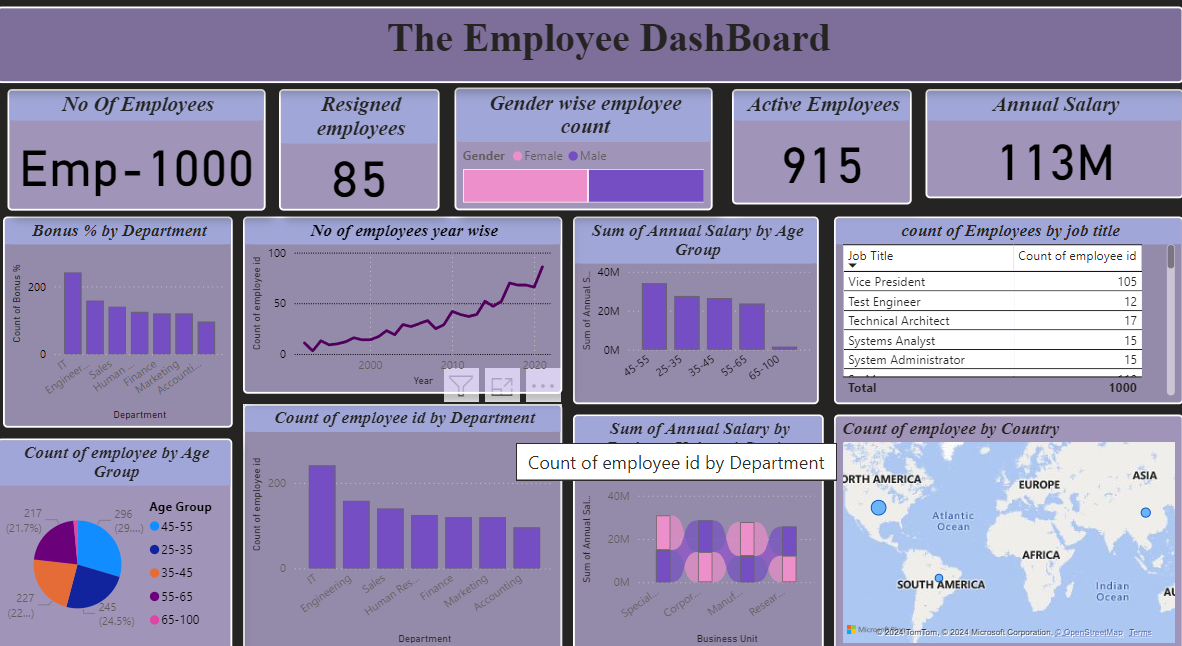

The page's visual inventory and layout, read from the dashboard file:
{"tool":"powerbi","page":{"name":"Page 2","canvas":[1280,720],"ordinal":0},"visuals":[{"type":"tableEx","title":"count of Employees by job title","fields":{"Values":["Sheet1.Job Title","CountNonNull(Sheet1.employee id)"]},"box":[903.5,241.3,377.3,202.4],"z":0},{"type":"clusteredColumnChart","title":" Bonus % by Department","fields":{"Category":["Sheet1.Department"],"Y":["CountNonNull(Sheet1.Bonus %)"]},"box":[6.5,241.3,247.7,228.3],"z":1000},{"type":"map","title":"Count of employee  by Country","fields":{"Category":["Sheet1.Country"],"Size":["CountNonNull(Sheet1.employee id)"]},"box":[903.5,455,377.3,255.8],"z":2000},{"type":"columnChart","fields":{"Category":["Sheet1.Age Group"],"Y":["Sum(Sheet1.Annual Salary)"]},"box":[621.8,241.3,265.6,202.4],"z":3000},{"type":"columnChart","fields":{"Category":["Sheet1.Department"],"Y":["CountNonNull(Sheet1.employee id)"]},"box":[265.6,443.7,344.9,267.2],"z":4000},{"type":"ribbonChart","fields":{"Category":["Sheet1.Business Unit"],"Y":["Sum(Sheet1.Annual Salary)"],"Series":["Sheet1.Gender"]},"box":[621.8,455,270.4,255.8],"z":5000},{"type":"lineChart","title":"No of employees year wise","fields":{"Category":["Sheet1.Hire Date.Variation.Date Hierarchy.Year"],"Y":["CountNonNull(Sheet1.employee id)"]},"box":[265.6,241.3,344.9,191.1],"z":6000},{"type":"pieChart","title":"Count of employee  by Age Group","fields":{"Y":["CountNonNull(Sheet1.employee id)"],"Category":["Sheet1.Age Group"]},"box":[0,480.9,254.2,229.9],"z":8000},{"type":"treemap","title":"Gender wise employee count","fields":{"Group":["Sheet1.Gender"],"Values":["CountNonNull(Sheet1.employee id)"]},"box":[493.9,102,278.5,132.8],"z":9000},{"type":"card","title":"No Of Employees","fields":{"Values":["Min(Sheet1.employee id)"]},"box":[11.3,103.6,278.5,131.2],"z":10000},{"type":"card","title":"Resigned employees","fields":{"Values":["Sum(Sheet1.Actual Exit)"]},"box":[304.4,103.6,173.3,131.2],"z":11000},{"type":"card","title":"Active Employees","fields":{"Values":["Sheet1.Active Employees"]},"box":[793.4,103.6,194.3,124.7],"z":12000},{"type":"card","title":"Annual Salary","fields":{"Values":["Sum(Sheet1.Annual Salary)"]},"box":[1002.3,103.6,278.5,118.2],"z":13000},{"type":"textbox","box":[0,14.6,1280.8,82.6],"z":14000}]}

Visuals, with their boxes in screenshot pixels (x1, y1, x2, y2), scaled from the page's 1280x720 canvas onto the 1182x646 screenshot:
"count of Employees by job title" tableEx: crop(834, 216, 1181, 398)
" Bonus % by Department" clusteredColumnChart: crop(6, 216, 235, 421)
"Count of employee  by Country" map: crop(834, 408, 1181, 638)
columnChart - Sheet1.Age Group x Sum(Sheet1.Annual Salary): crop(574, 216, 819, 398)
columnChart - Sheet1.Department x CountNonNull(Sheet1.employee id): crop(245, 398, 564, 638)
ribbonChart - Sheet1.Business Unit x Sum(Sheet1.Annual Salary): crop(574, 408, 824, 638)
"No of employees year wise" lineChart: crop(245, 216, 564, 388)
"Count of employee  by Age Group" pieChart: crop(0, 431, 235, 638)
"Gender wise employee count" treemap: crop(456, 92, 713, 211)
"No Of Employees" card: crop(10, 93, 268, 211)
"Resigned employees" card: crop(281, 93, 441, 211)
"Active Employees" card: crop(733, 93, 912, 205)
"Annual Salary" card: crop(926, 93, 1181, 199)
textbox: crop(0, 13, 1181, 87)
